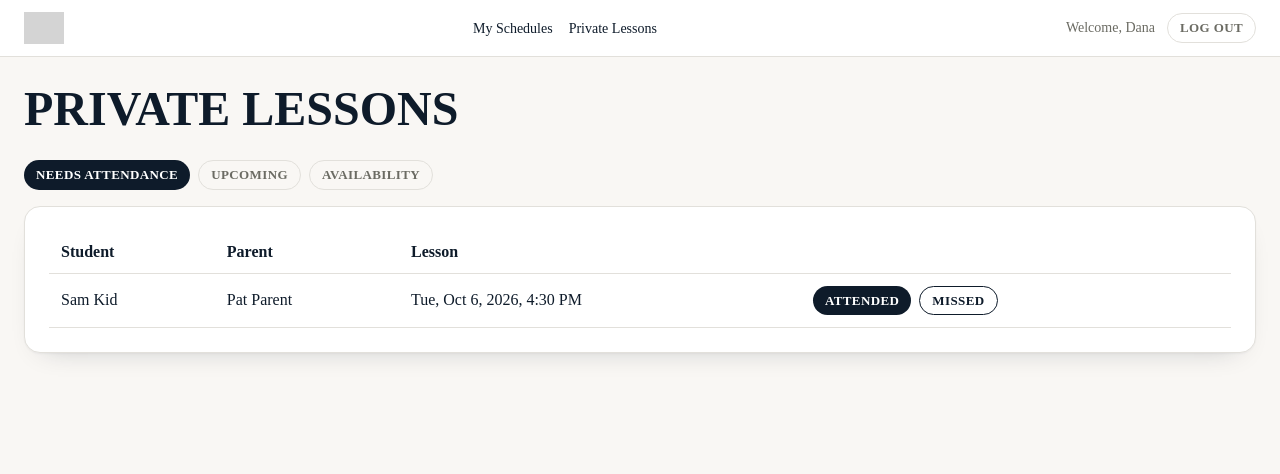
it: CoachPrivateLessonsPage › a window with bookings offers no Remove, only a note saying why
This screenshot has width=1280, height=474.
Step 1. Click the tab "Availability" → (371, 175), box [309, 160, 433, 190]
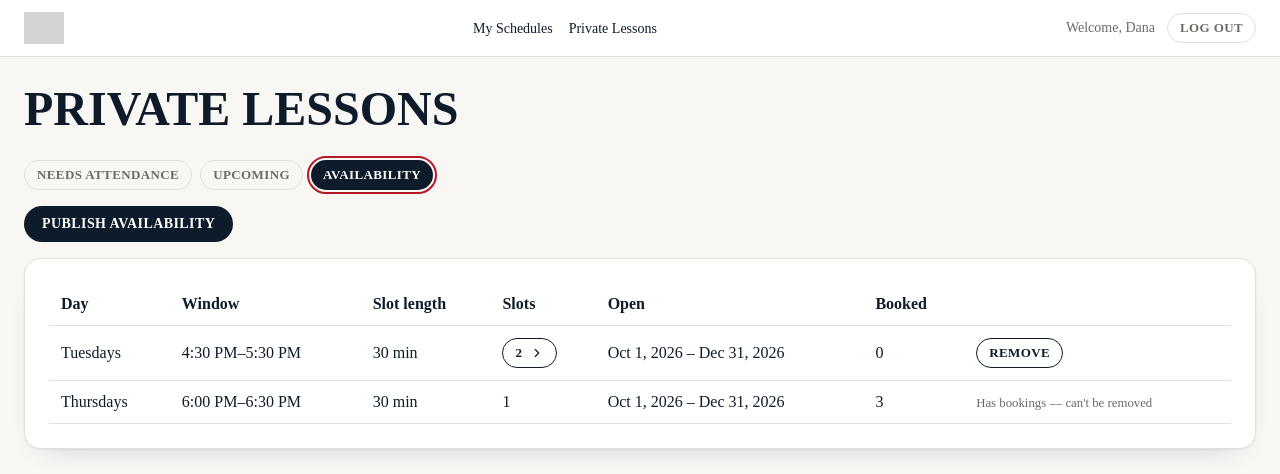
Result: the text "3" is shown at [863, 380, 964, 424]
Result: the text "Has bookings — can't be removed" is shown at [976, 396, 1152, 410]
